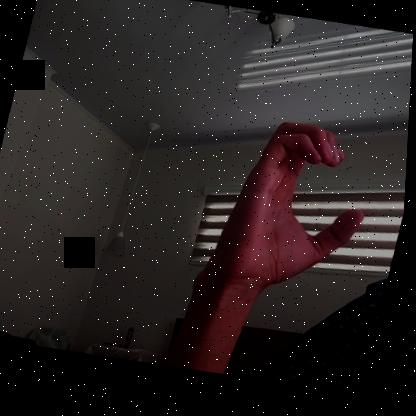C: (202, 109, 389, 305)
